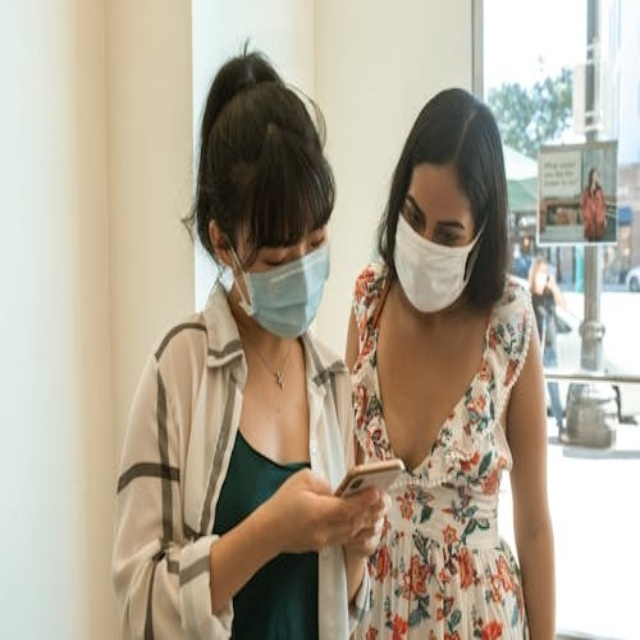Mascara: (227, 232, 329, 339), (393, 205, 487, 314), (535, 270, 547, 289)
Sin_gafas: (401, 190, 484, 250), (257, 248, 299, 269), (309, 234, 325, 251)
Sin_guantes: (271, 457, 361, 575), (348, 480, 384, 573)
